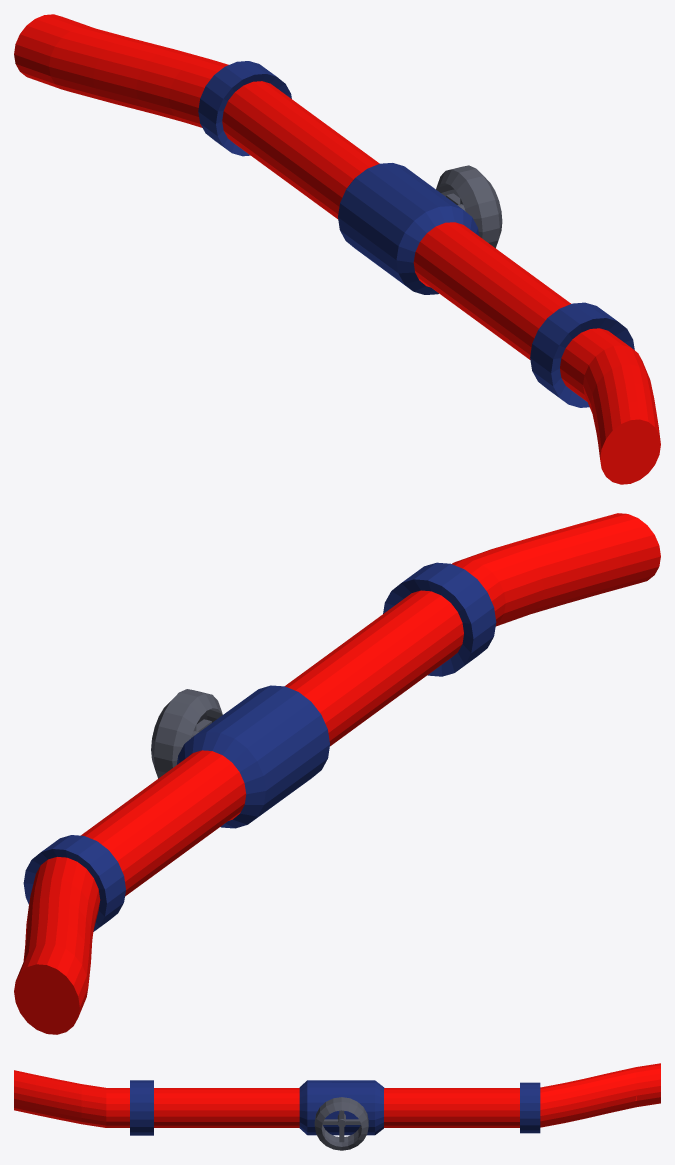
File: Lab Buizen model 11.fbx
The picture shows the model from 3 angles, top to bottom: view 1: azimuth 30°, elevation 25°; view 2: azimuth 150°, elevation 25°; view 3: azimuth 270°, elevation 25°; orthographic projection. The views are drawn at different scales.
Visible parts, largest first — view 1: pCylinder24; view 2: pCylinder24; view 3: pCylinder24.
Part boxes in pixels (<box>): pCylinder24: <box>14,14,660,484</box>; pCylinder24: <box>14,513,660,1034</box>; pCylinder24: <box>14,1063,660,1150</box>.
Size of the model in its own units: 63.65 by 27.61 by 319.
1 material, 1 textured.
